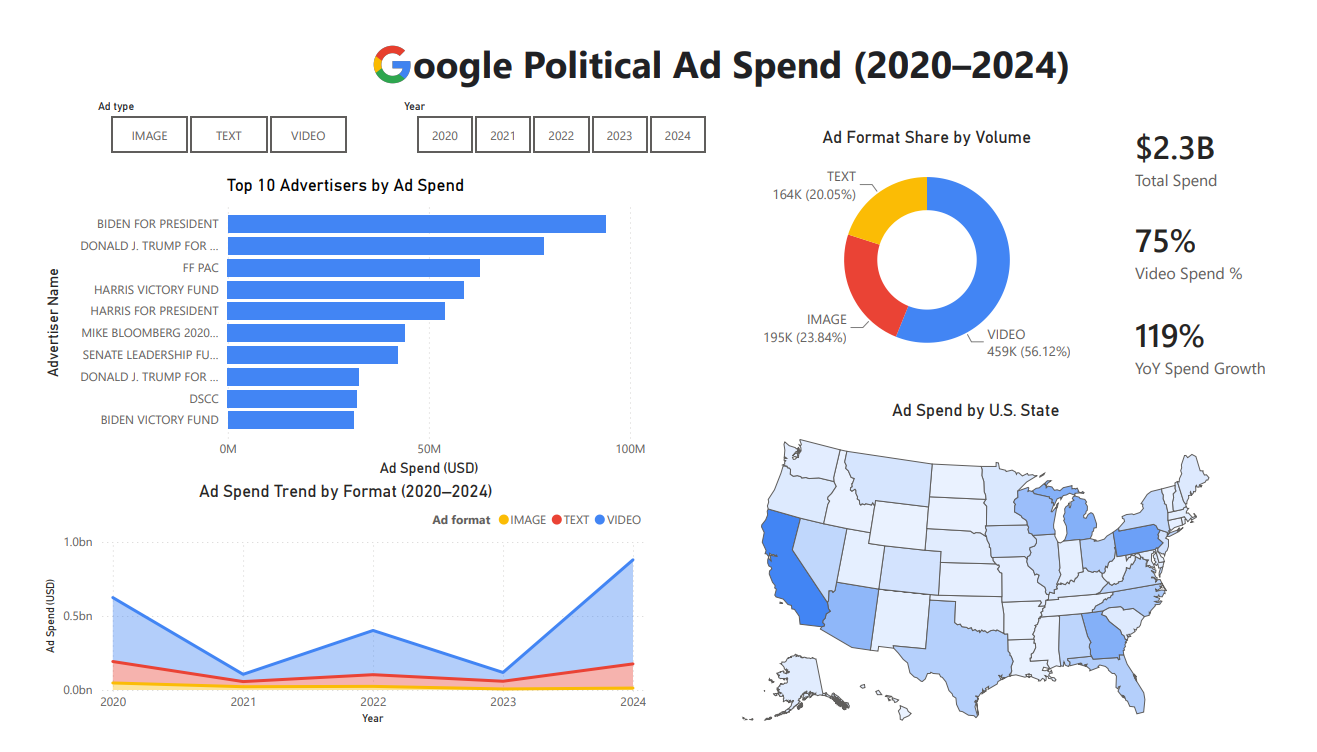

Layout of this report page (visuals, bound fields, positions):
{"tool":"powerbi","page":{"name":"Page 1","canvas":[1280,720],"ordinal":0},"visuals":[{"type":"clusteredBarChart","title":"Top 10 Advertisers by Ad Spend","fields":{"Category":["table1_advertiser_adtype csv.advertiser_name"],"Y":["Sum(table1_advertiser_adtype csv.avg_spend_estimate)"]},"box":[18.8,153.8,611.2,306.2],"z":0},{"type":"donutChart","title":"Ad Format Share by Volume","fields":{"Category":["table1_advertiser_adtype csv.ad_type"],"Y":["Sum(table1_advertiser_adtype csv.total_ads)"]},"box":[708.8,106.2,393.8,246.2],"z":1000},{"type":"shapeMap","title":"Ad Spend by U.S. State","fields":{"Category":["table3_geo_targeting csv.state"],"Value":["Sum(table3_geo_targeting csv.total_spend_max)"]},"box":[629.8,379.1,650.5,341.2],"z":2000},{"type":"stackedAreaChart","title":"Ad Spend Trend by Format (2020–2024)","fields":{"Category":["table2_monthly_trend csv.month.Variation.Date Hierarchy.Year"],"Y":["Sum(table2_monthly_trend csv.total_spend_max)"],"Series":["table2_monthly_trend csv.ad_type"]},"box":[18.8,460,611.2,248.8],"z":3000},{"type":"textbox","box":[387,12,744,63],"z":4000},{"type":"cardVisual","fields":{"Data":["measures .Total Spend"]},"box":[1085,86.2,178.8,101.2],"z":5000},{"type":"cardVisual","fields":{"Data":["measures .Video Spend %"]},"box":[1084.7,178.5,195.7,100.3],"z":6000},{"type":"cardVisual","fields":{"Data":["measures .YoY Spend Growth"]},"box":[1084.7,270.2,195.7,108.8],"z":7000},{"type":"image","box":[336.2,23.8,68.8,40],"z":8000},{"type":"slicer","fields":{"Values":["table1_advertiser_adtype csv.ad_type"]},"box":[64.3,74.3,285.7,64.3],"z":9000},{"type":"slicer","fields":{"Values":["table2_monthly_trend csv.Year"]},"box":[370,74.3,338.6,64.3],"z":10000}]}

Visuals, with their boxes in screenshot pixels (x1, y1, x2, y2), scaled from the page's 1280x720 canvas onto the 1317x752 screenshot:
"Top 10 Advertisers by Ad Spend" clusteredBarChart: [left=19, top=161, right=648, bottom=480]
"Ad Format Share by Volume" donutChart: [left=729, top=111, right=1134, bottom=368]
"Ad Spend by U.S. State" shapeMap: [left=648, top=396, right=1316, bottom=751]
"Ad Spend Trend by Format (2020–2024)" stackedAreaChart: [left=19, top=480, right=648, bottom=740]
textbox: [left=398, top=13, right=1164, bottom=78]
cardVisual - measures .Total Spend: [left=1116, top=90, right=1300, bottom=196]
cardVisual - measures .Video Spend %: [left=1116, top=186, right=1316, bottom=291]
cardVisual - measures .YoY Spend Growth: [left=1116, top=282, right=1316, bottom=396]
image: [left=346, top=25, right=417, bottom=67]
slicer - table1_advertiser_adtype csv.ad_type: [left=66, top=78, right=360, bottom=145]
slicer - table2_monthly_trend csv.Year: [left=381, top=78, right=729, bottom=145]
